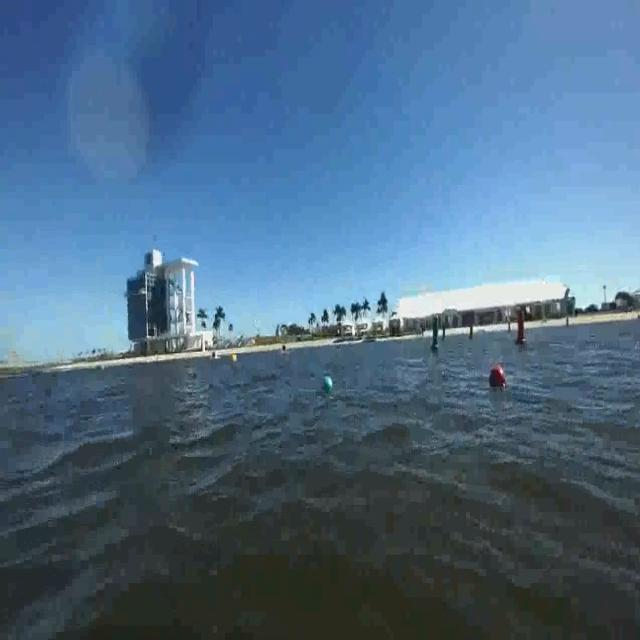green-buoy: (324, 378, 332, 391)
green-column-buoy: (430, 320, 440, 352)
red-buoy: (489, 366, 505, 388)
red-column-buoy: (514, 312, 525, 348)
yellow-buoy: (232, 354, 238, 365)
